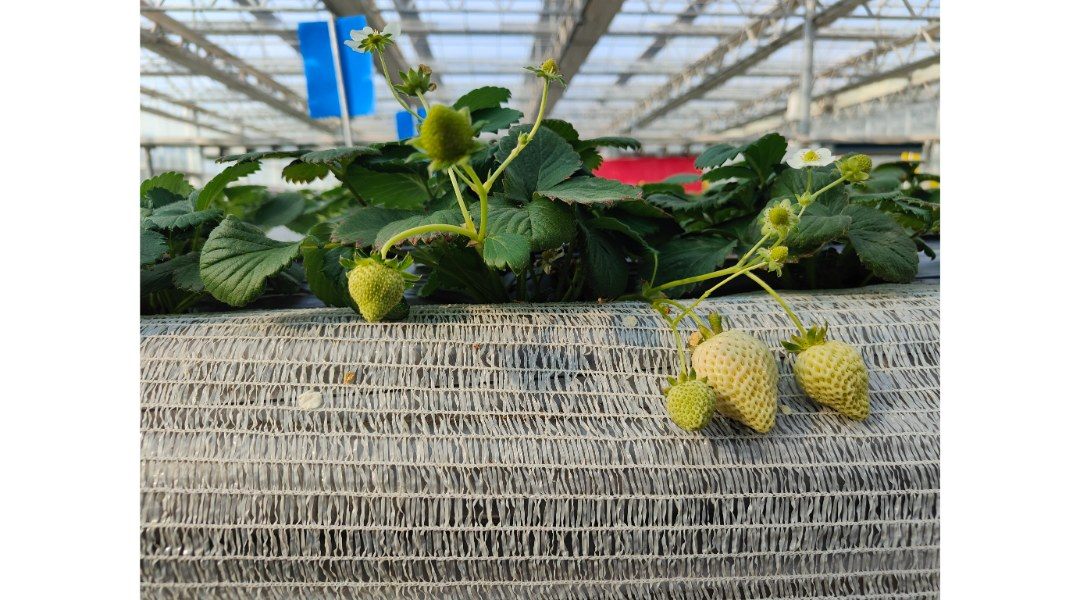berry: (691, 323, 789, 439), (775, 342, 883, 429), (333, 253, 414, 337), (643, 368, 719, 444), (413, 102, 479, 177), (760, 195, 800, 239), (536, 42, 573, 89), (841, 151, 873, 196), (761, 245, 796, 271)
flower: (780, 124, 837, 173), (346, 16, 393, 54)
strain: (493, 98, 547, 185), (749, 283, 807, 335), (380, 217, 468, 244), (680, 281, 737, 320), (665, 264, 725, 285), (482, 185, 493, 227)
